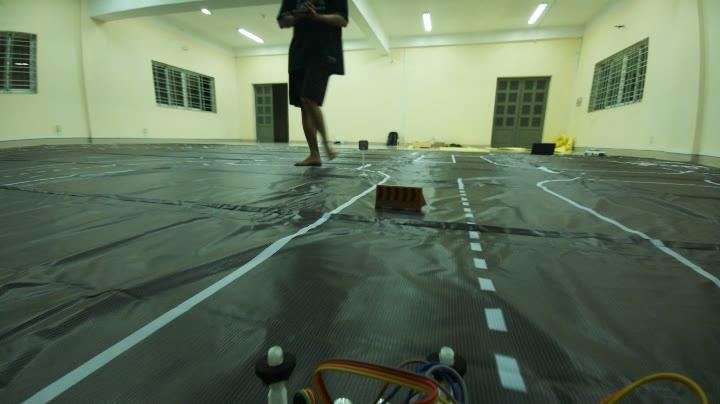roadblock: (373, 180, 429, 222)
